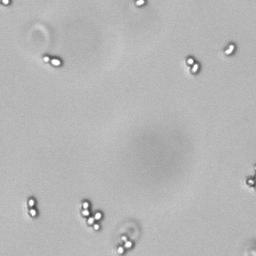budding: (115, 234, 133, 256), (41, 53, 63, 67), (186, 56, 201, 75), (27, 197, 37, 218), (223, 42, 236, 56)
cluster: (79, 198, 104, 233)
individual: (134, 1, 147, 7)
